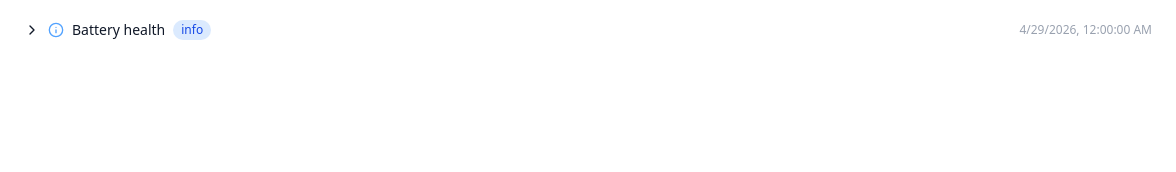
it: HealthChecksTab › renders battery non-applicable hint on desktops
The image size is (1176, 172).
Expected: the text "Battery health" is shown, [72, 20, 165, 40]
Click the button "Battery health info 4/29/2026, 12:00:00 AM": (119,30) [12, 12, 1164, 48]
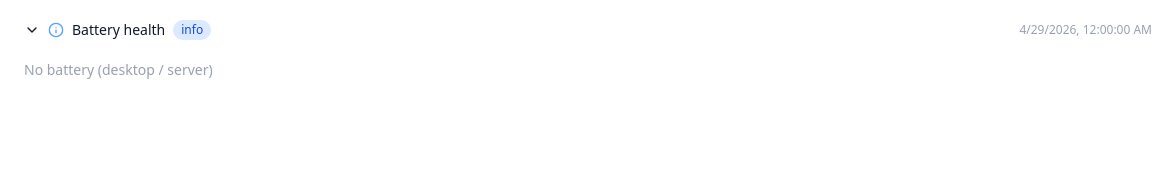
Expected: the text "No battery (desktop / server)" is shown, [24, 60, 213, 79]
